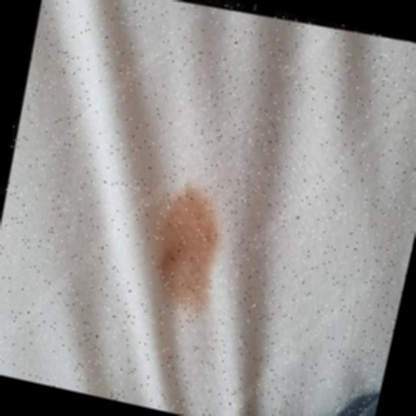kimchi: (132, 183, 239, 319)
